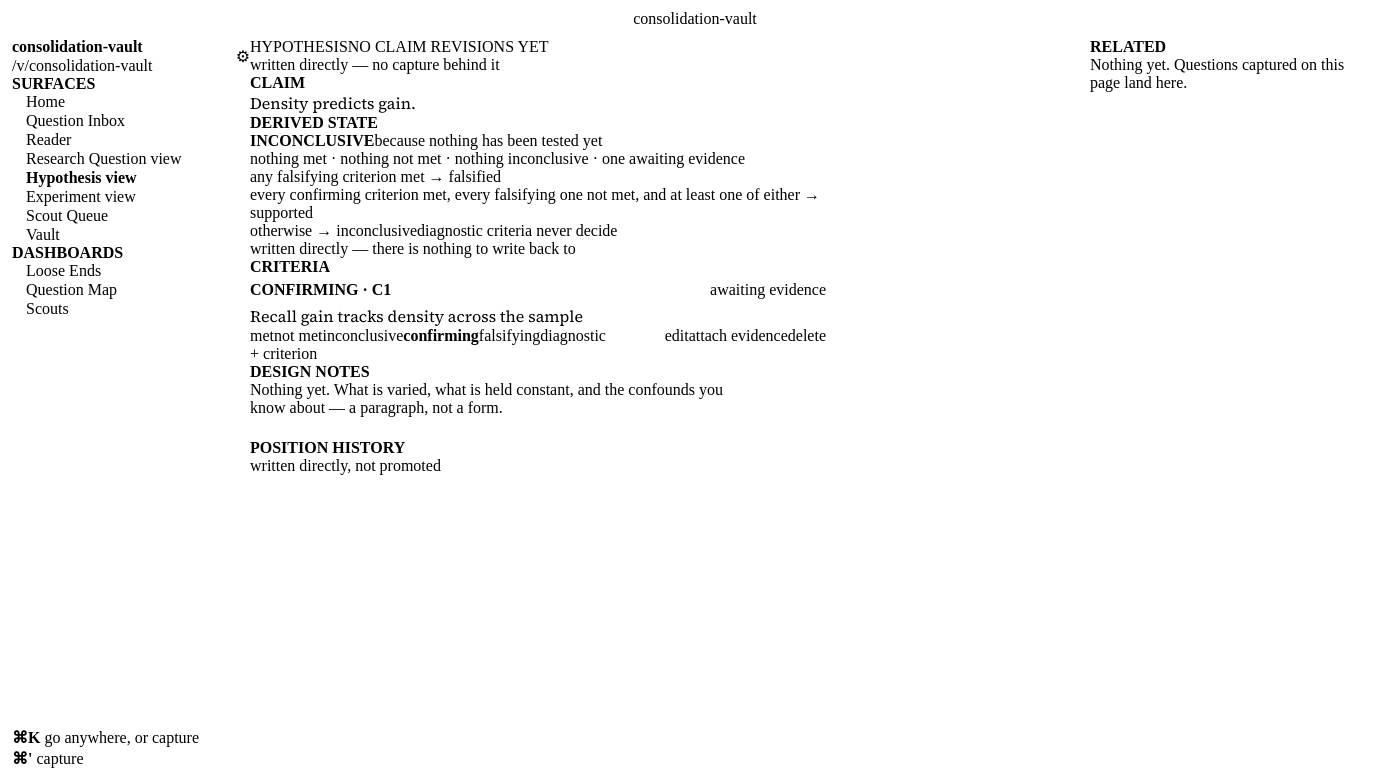
Scenario: rewording a criterion › esc puts the text back and writes nothing
Click the button "edit".
click(677, 336)  # box [665,327,689,345]
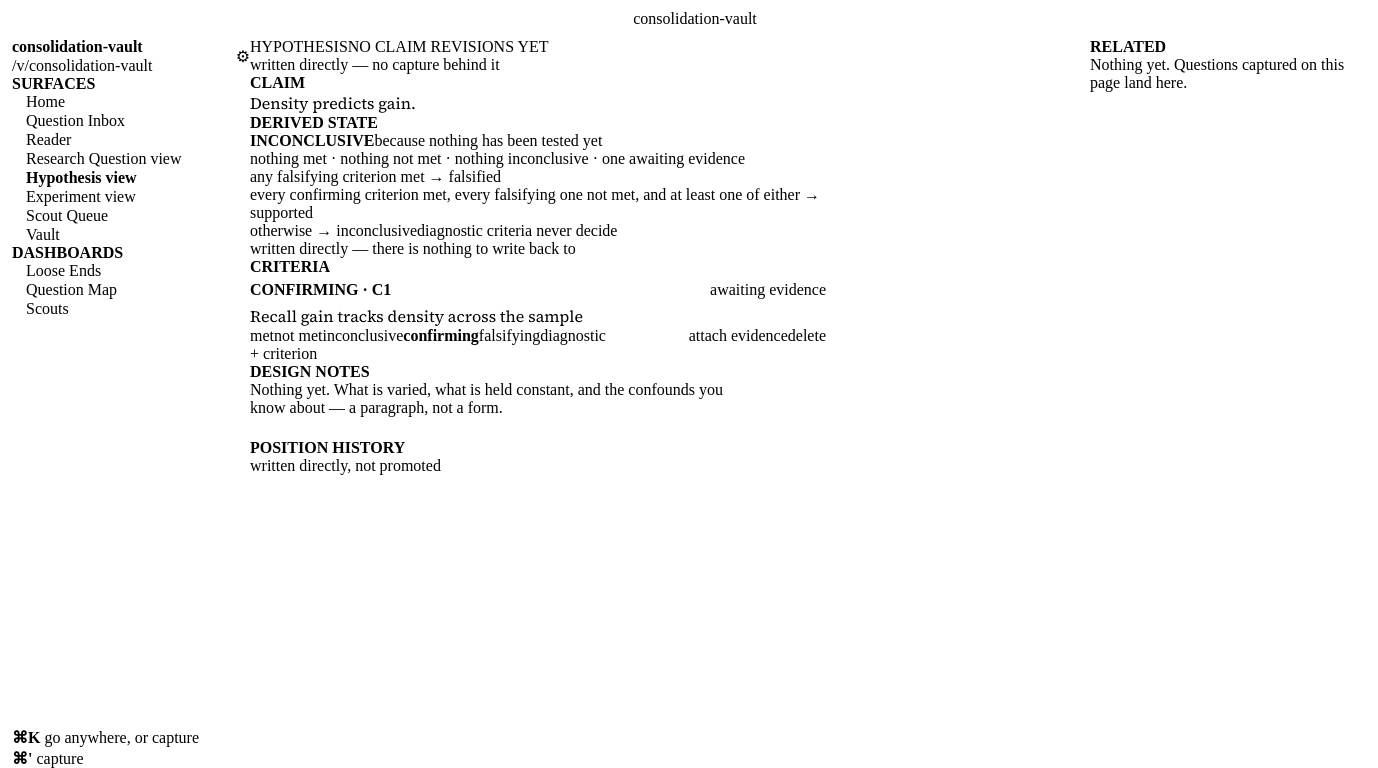
Replace the text in the field named "Criterion C1" with "Half a thought" at [538, 316], box [250,305,826,327]
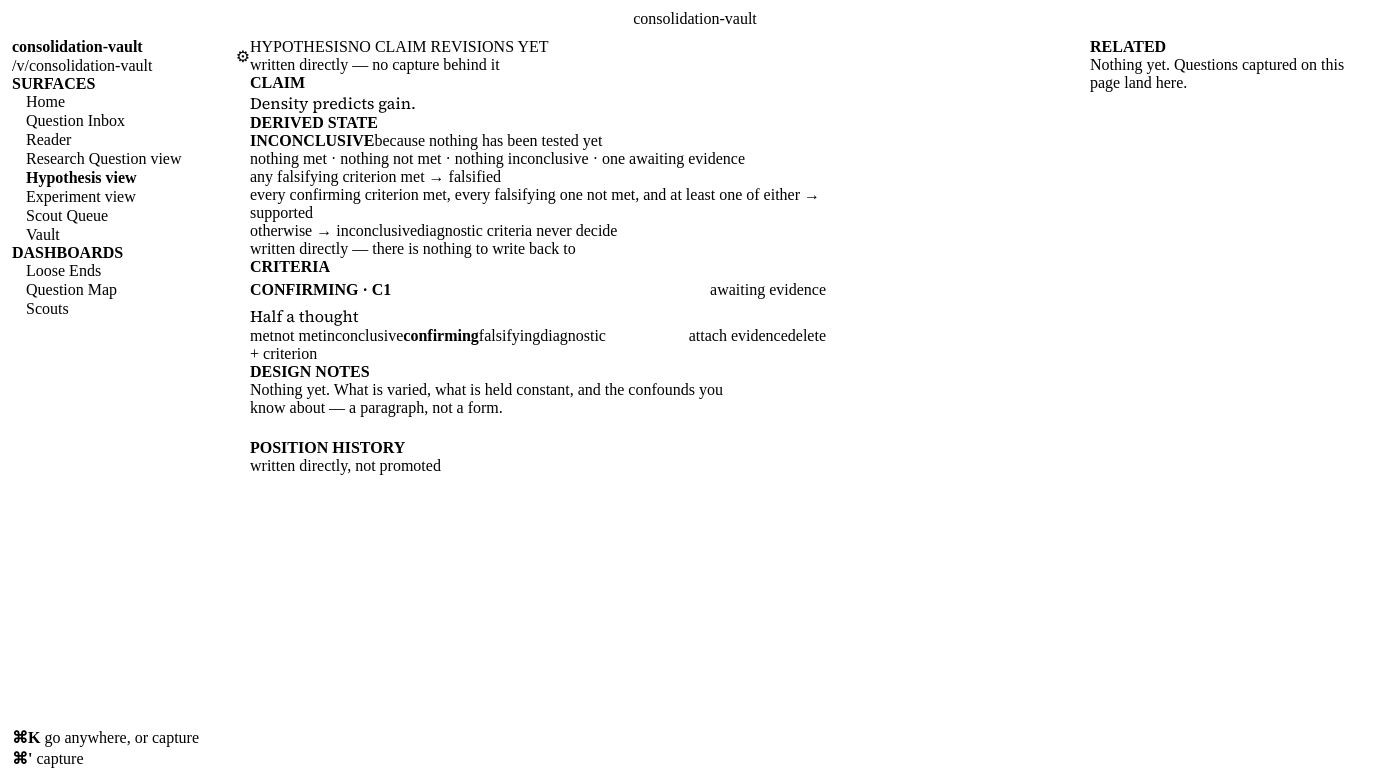
Press Escape in the field named "Criterion C1", box [250,305,826,327]
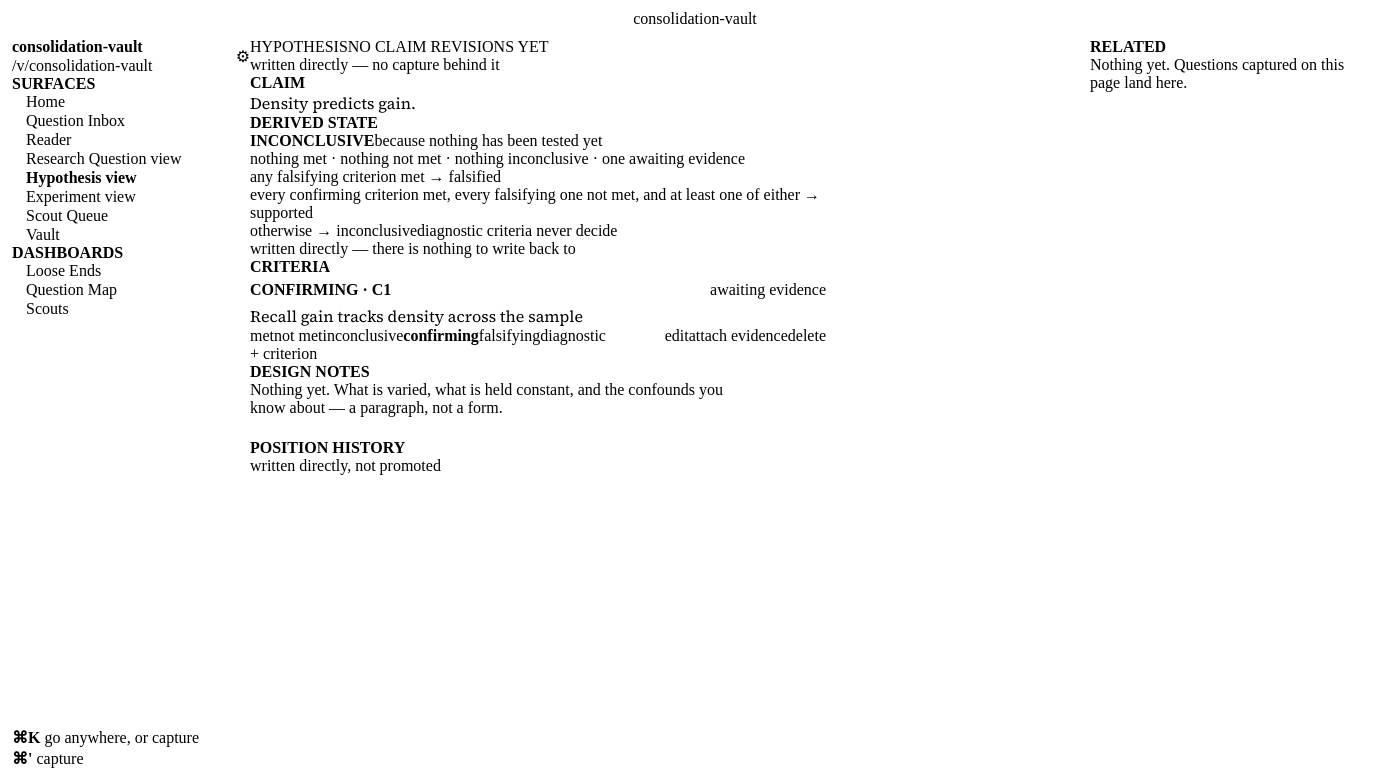
Expected: the field is gone
Expected: the text "Recall gain tracks density across the sample" is shown, [250,305,583,327]
